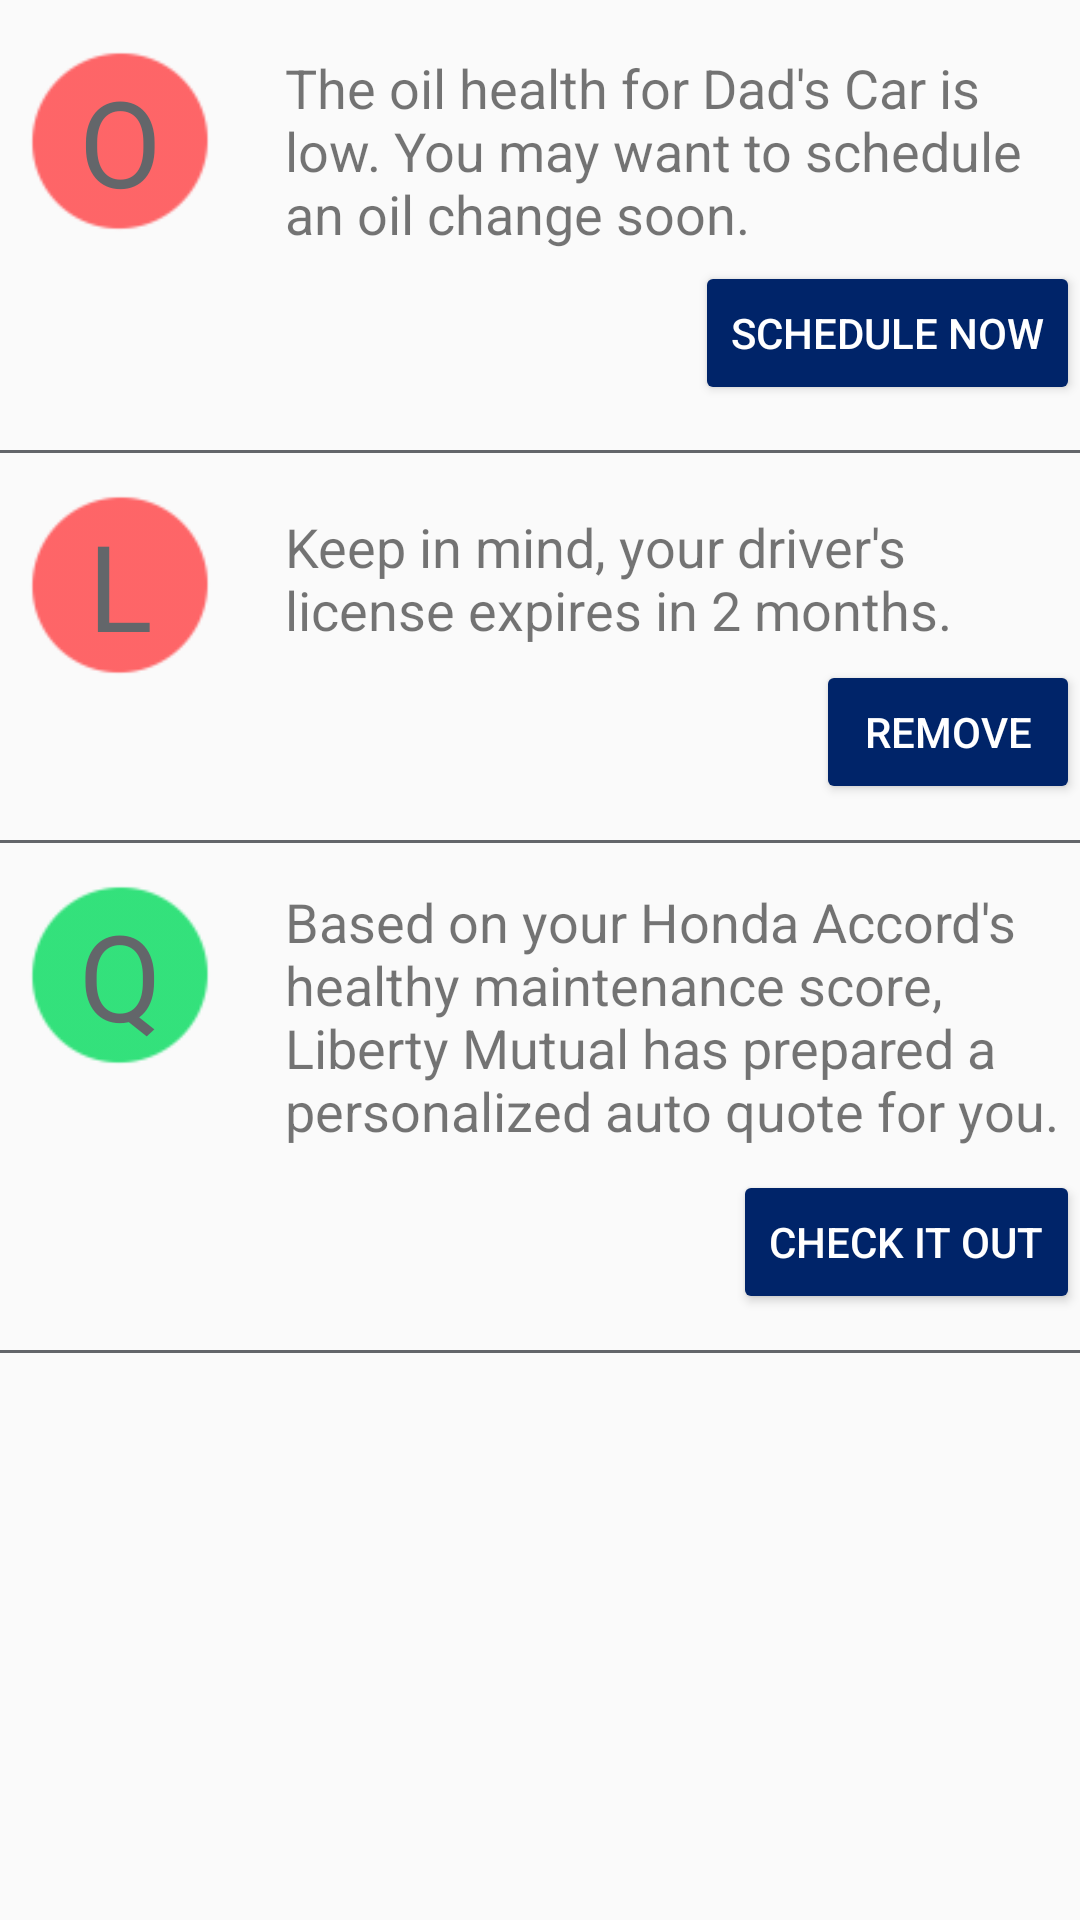

Screen size 1080x1920. Icon name, then its box in pixels as (x1, y1, x2, y2):
circle: (32, 53, 208, 229), (32, 497, 208, 673), (31, 887, 208, 1064)
